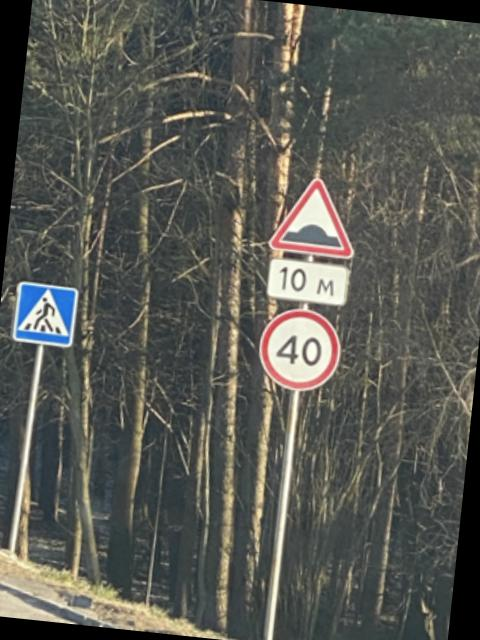crosswalk-sign: (11, 279, 81, 350)
